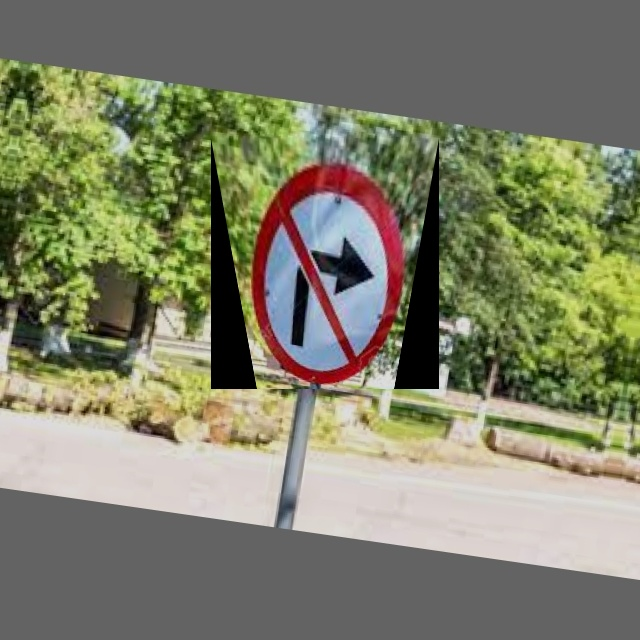Right_Turn_Prohibited: (211, 138, 439, 389)
